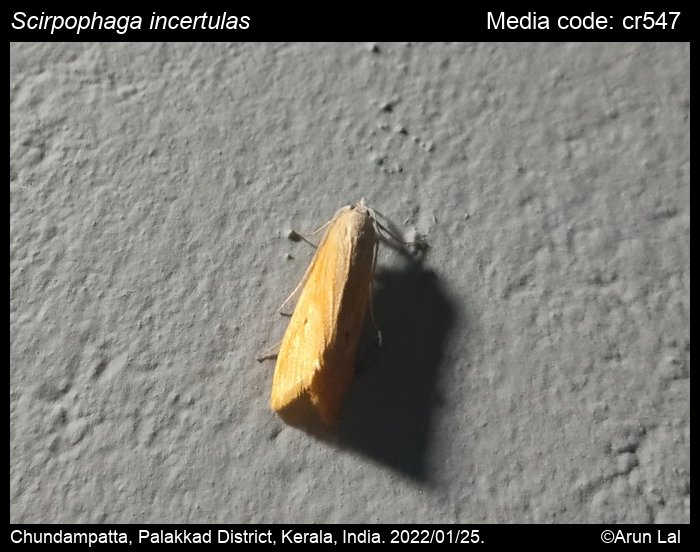Crambidae: (258, 191, 423, 425)
